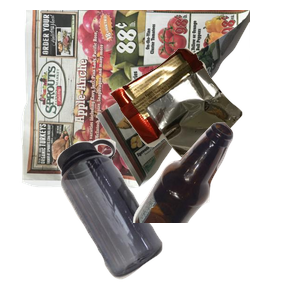glass: (130, 120, 300, 300)
paper: (18, 10, 258, 190)
plastic: (54, 136, 209, 300)
trash: (107, 46, 300, 198)
